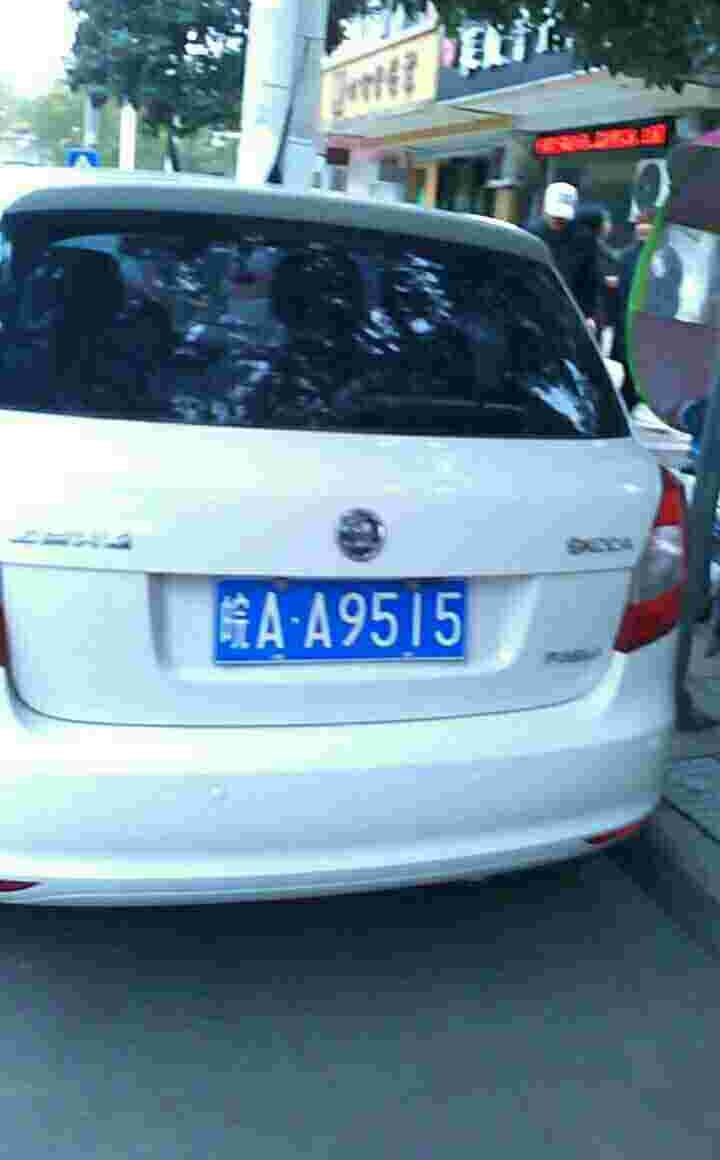license_plate: (212, 581, 466, 661)
